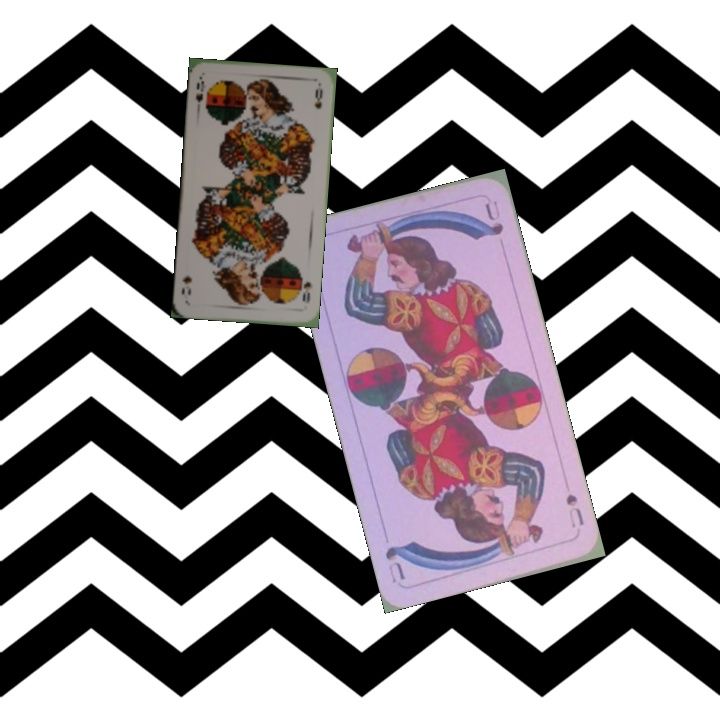SO: (191, 77, 208, 105), (298, 277, 314, 306)
SU: (562, 490, 587, 531)
